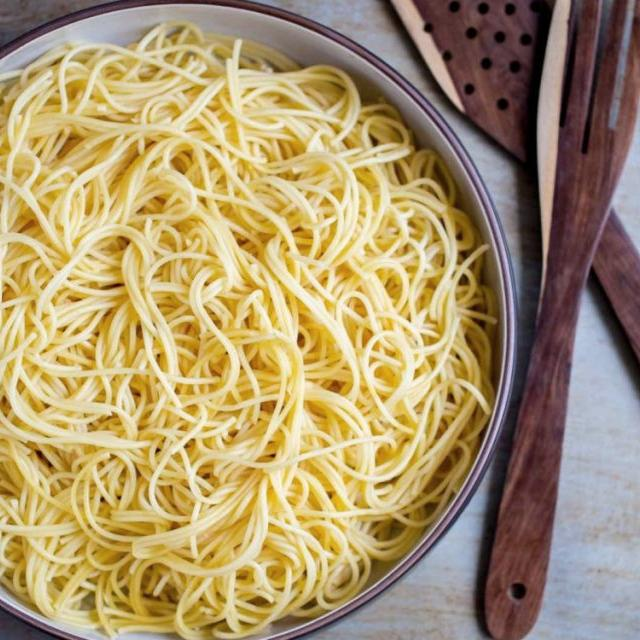noodles: (0, 18, 494, 640)
